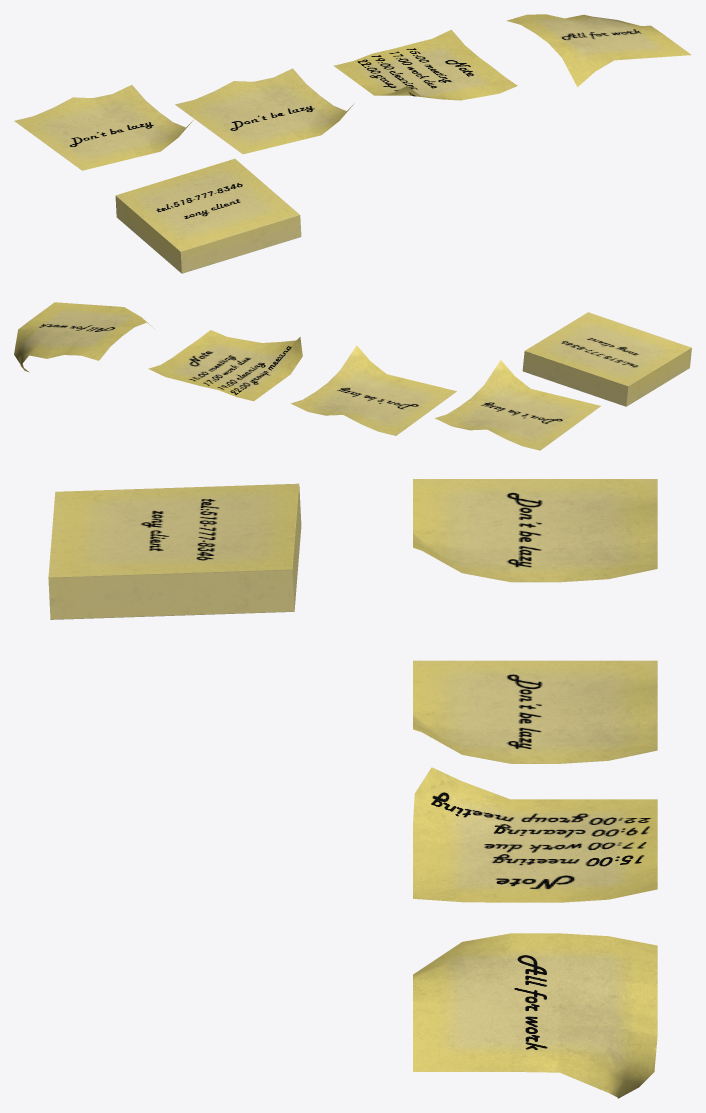
The model's file is memo2.fbx.
3 views of the same model, one above another, from view 1: azimuth 30°, elevation 25°; view 2: azimuth 150°, elevation 25°; view 3: azimuth 270°, elevation 25° (orthographic). The views are drawn at different scales.
Parts seen in each view (by area): view 1: SM_post_it_notes.001, SM_post_it_notes, SM_post_it_notes.004, SM_post_it_notes.002, SM_post_it_notes.003; view 2: SM_post_it_notes.001, SM_post_it_notes.004, SM_post_it_notes, SM_post_it_notes.002, SM_post_it_notes.003; view 3: SM_post_it_notes.003, SM_post_it_notes.001, SM_post_it_notes.002, SM_post_it_notes, SM_post_it_notes.004.
Part boxes in pixels (x1=…): SM_post_it_notes.001: x1=115, y1=158, x2=301, y2=273; SM_post_it_notes: x1=175, y1=68, x2=354, y2=154; SM_post_it_notes.004: x1=14, y1=85, x2=193, y2=170; SM_post_it_notes.002: x1=333, y1=29, x2=517, y2=100; SM_post_it_notes.003: x1=506, y1=14, x2=691, y2=87; SM_post_it_notes.001: x1=522, y1=312, x2=691, y2=406; SM_post_it_notes.004: x1=435, y1=360, x2=600, y2=450; SM_post_it_notes: x1=291, y1=345, x2=456, y2=435; SM_post_it_notes.002: x1=148, y1=330, x2=302, y2=401; SM_post_it_notes.003: x1=14, y1=302, x2=154, y2=372; SM_post_it_notes.003: x1=413, y1=933, x2=657, y2=1098; SM_post_it_notes.001: x1=48, y1=483, x2=301, y2=619; SM_post_it_notes.002: x1=413, y1=767, x2=657, y2=902; SM_post_it_notes: x1=413, y1=660, x2=657, y2=763; SM_post_it_notes.004: x1=413, y1=479, x2=657, y2=582.
Size of the model in its own units: 39.33 by 5.34 by 18.94.
Materials: 1 (1 with a texture image).
